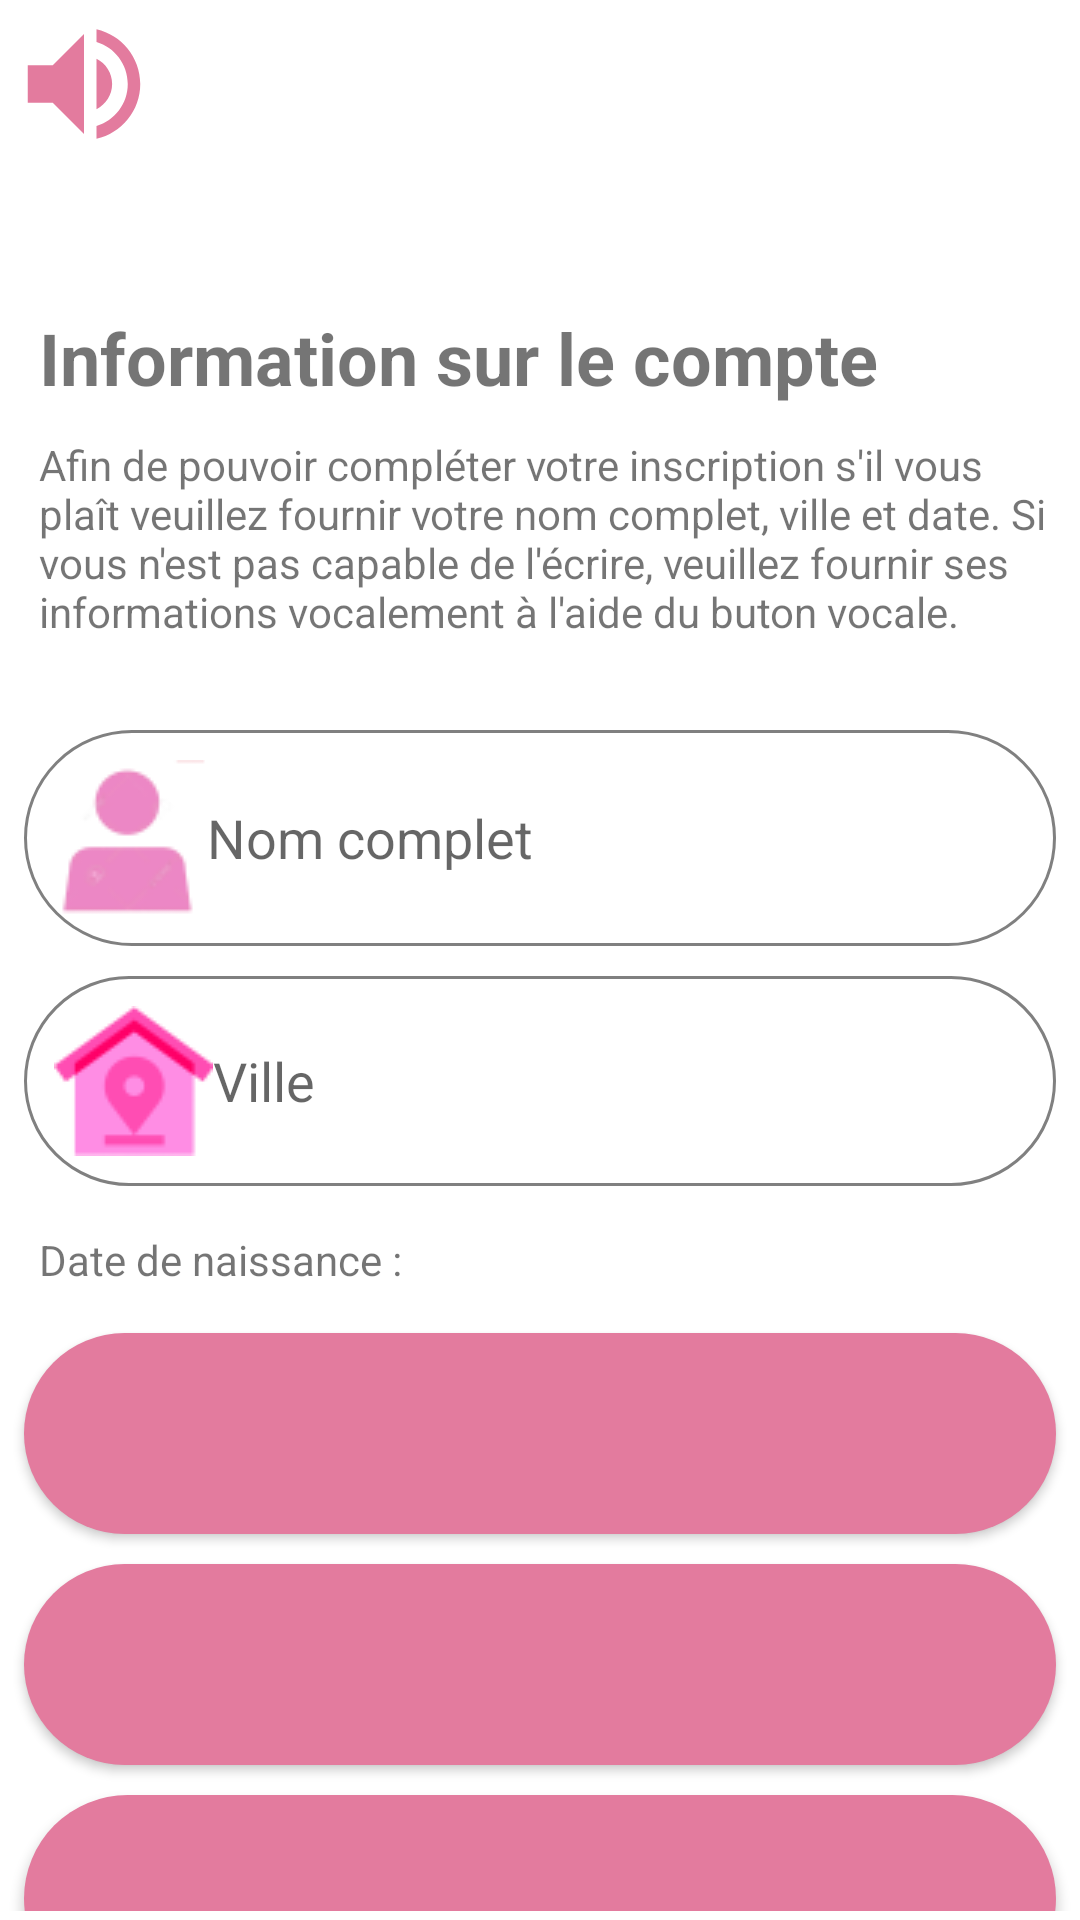

Point at icon controls on the screen. Image size 1080px x 1920px, points as [x,y].
volume up: [84,84]
